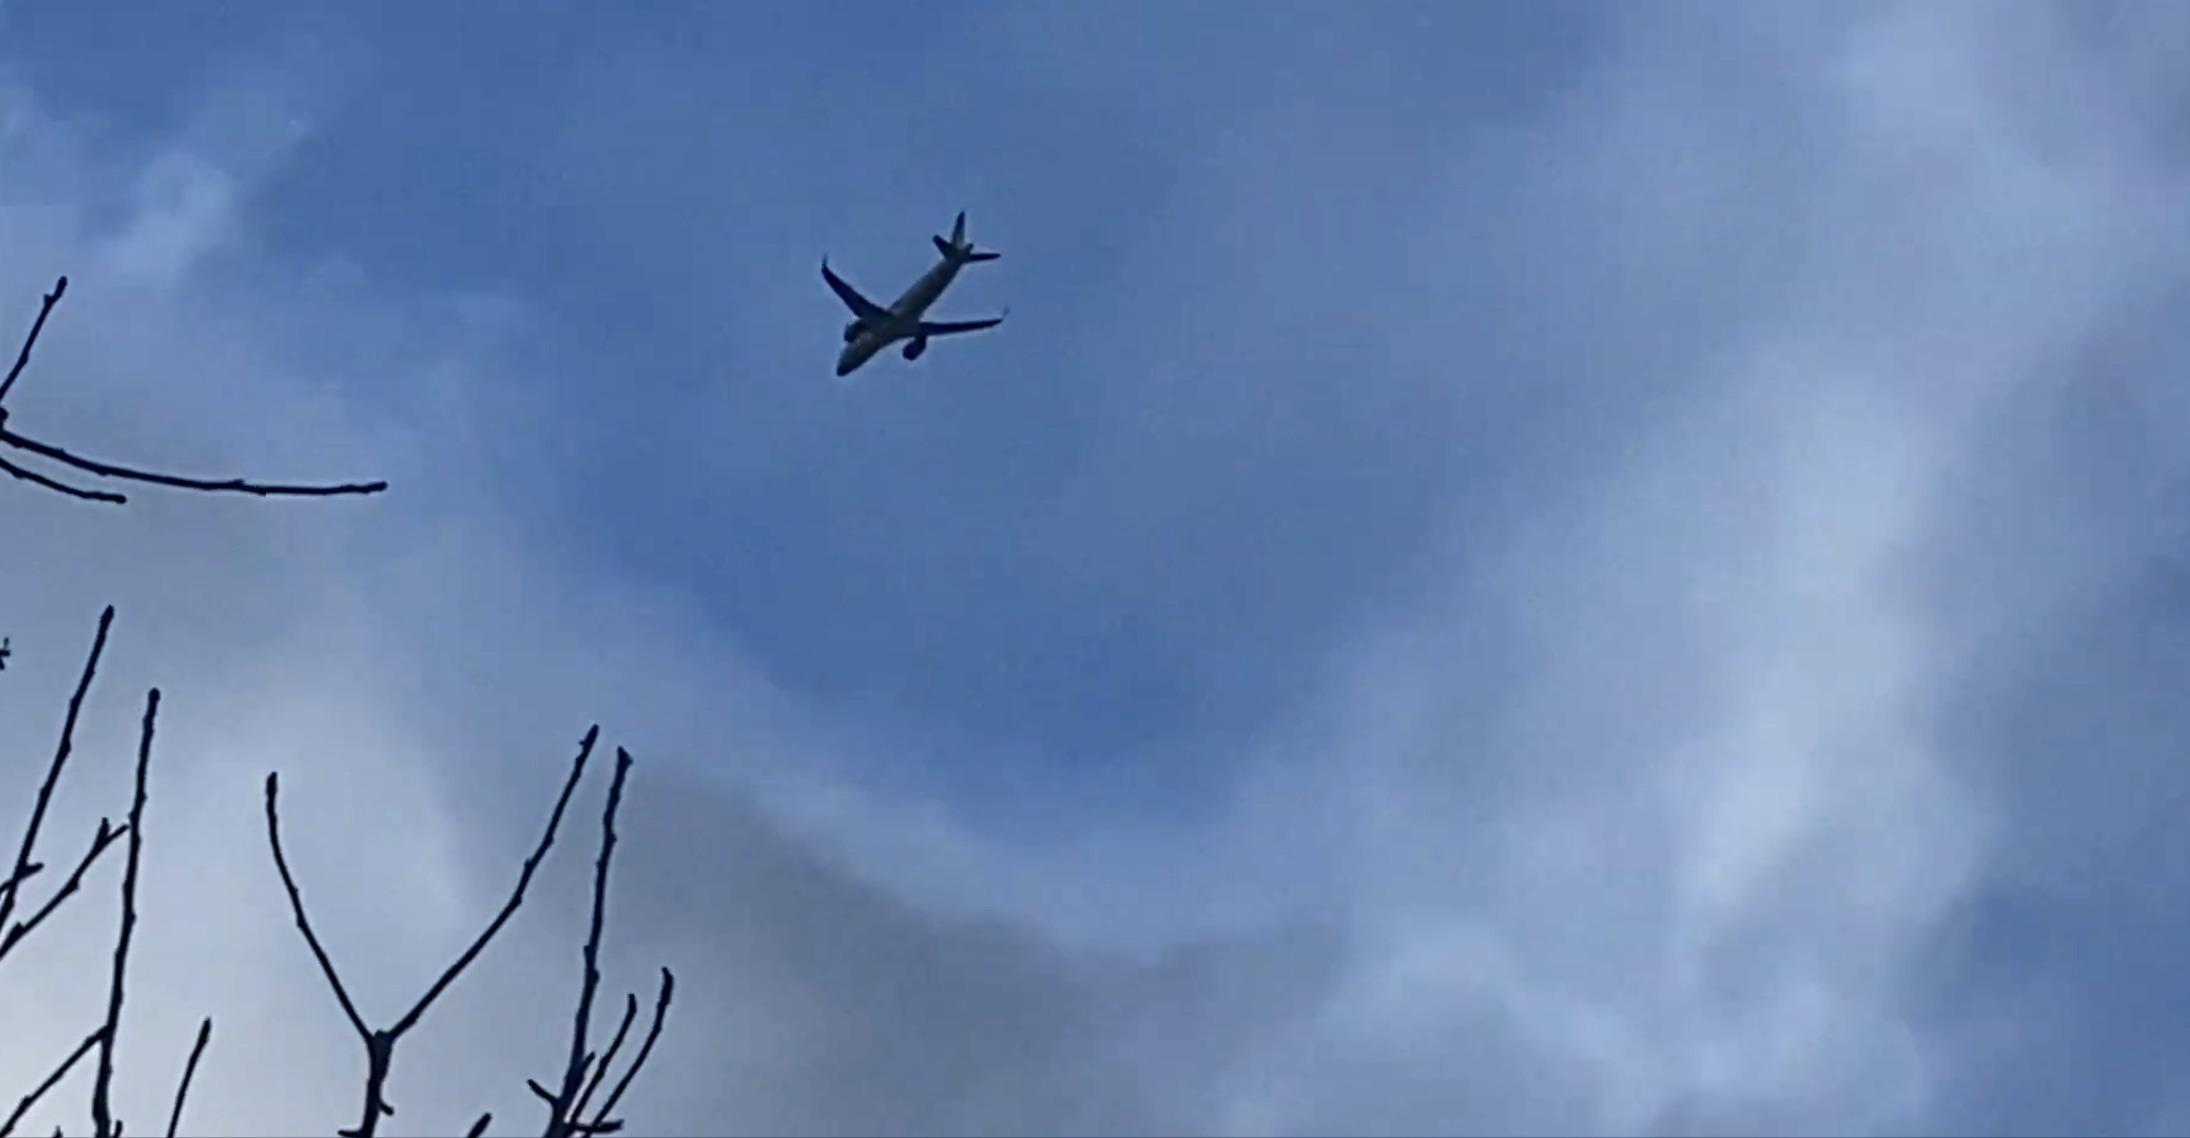Plane: (789, 206, 1043, 397)
